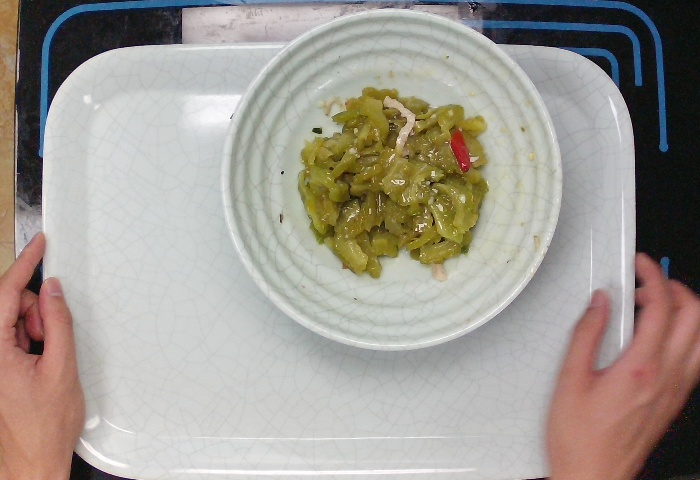JYsf-Da_Tang_Wan: (217, 5, 566, 354)
